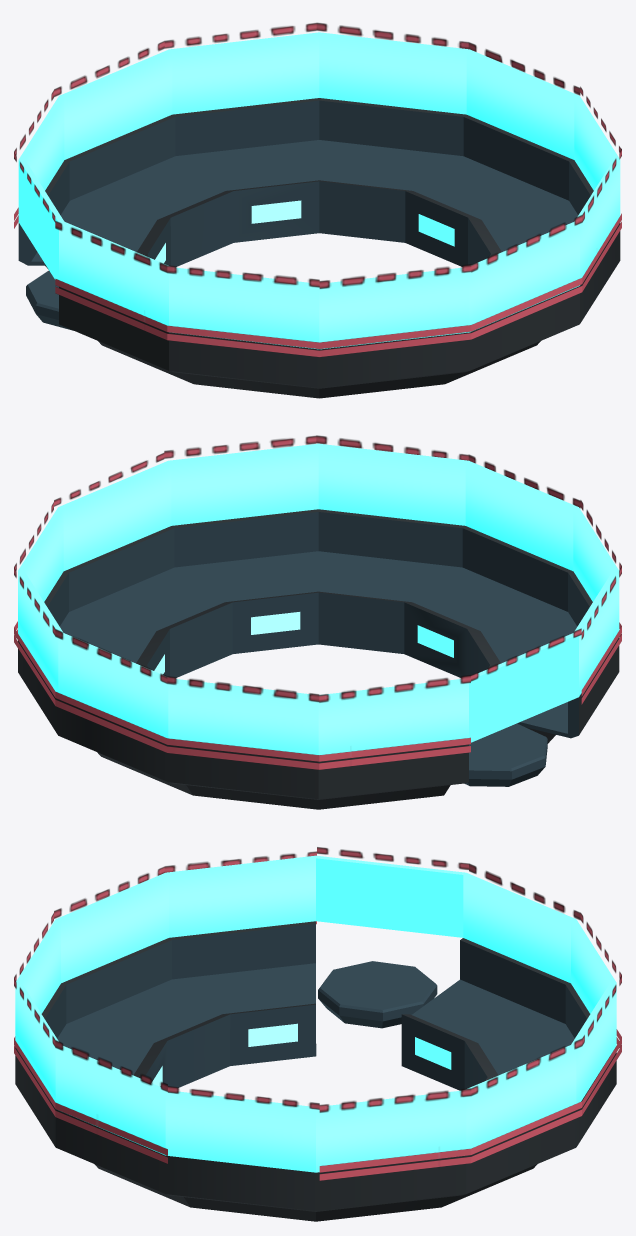
Rendered from Aero_Station_Ring_Art.glb.
3 views of the same model, one above another, from view 1: azimuth 30°, elevation 25°; view 2: azimuth 150°, elevation 25°; view 3: azimuth 270°, elevation 25° (orthographic).
Parts seen in each view (by area): view 1: Aero_Station_Ring_Art; view 2: Aero_Station_Ring_Art; view 3: Aero_Station_Ring_Art.
Part boxes in pixels (<box>): Aero_Station_Ring_Art: <box>14,22,621,398</box>; Aero_Station_Ring_Art: <box>14,435,621,809</box>; Aero_Station_Ring_Art: <box>14,847,621,1221</box>.
Bounding box in the file's own units: 10.23 × 3.06 × 10.23.
Materials: 6 (3 with a texture image).
